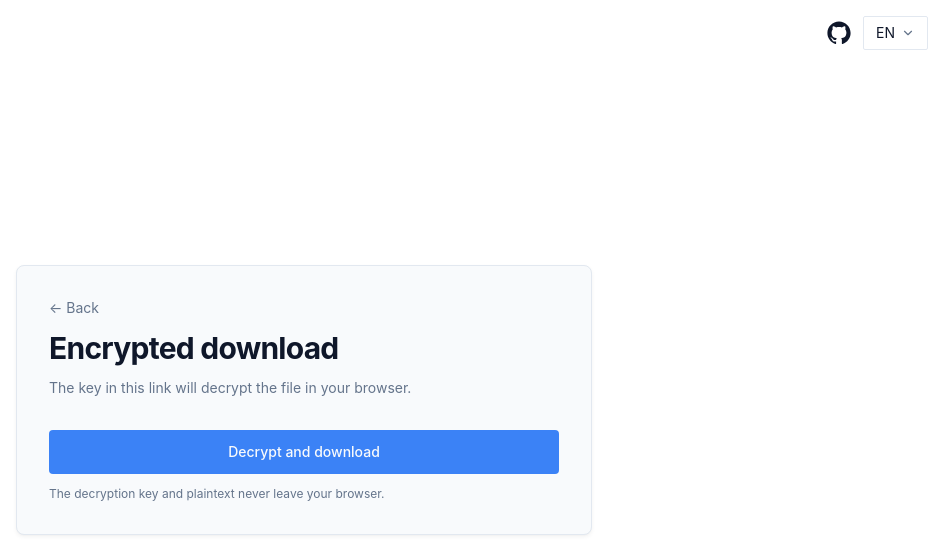
Test case: encrypted download page › reports authentication failures without creating a plaintext download
The width and height of the screenshot is (944, 553).
Click the button "Decrypt and download": point(304, 452) [49,430,559,474]
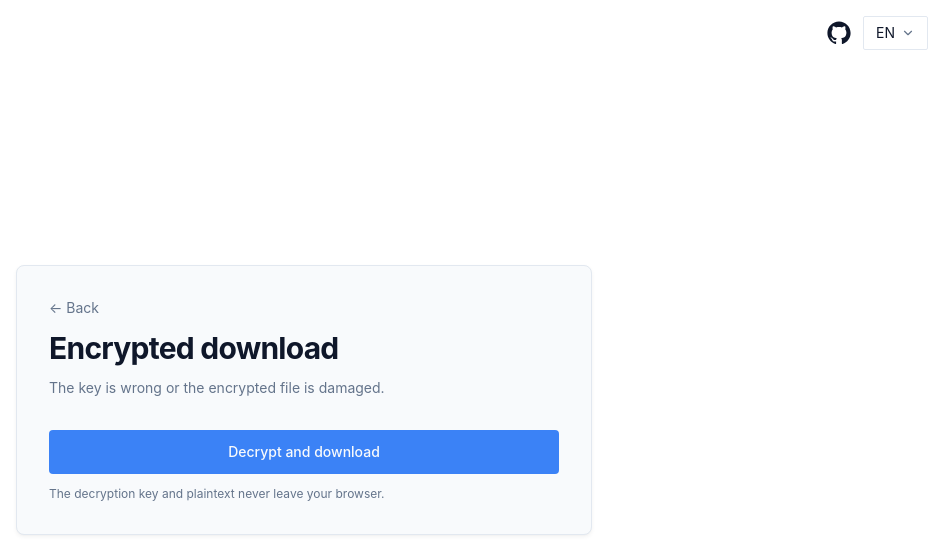
Check: the text "The key is wrong or the encrypted file is damaged." is shown, box [49,379,385,396]
